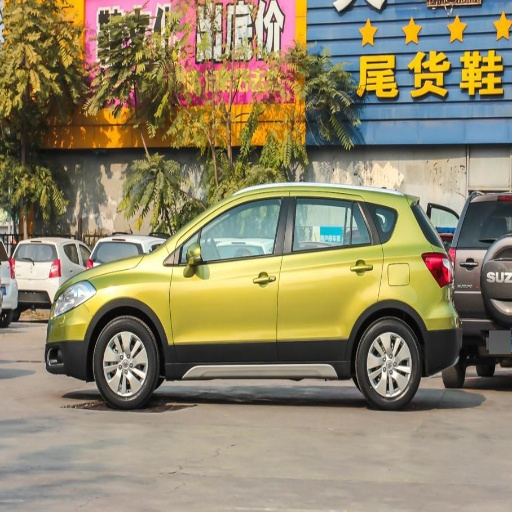back_bumper: (421, 287, 488, 368)
back_left_door: (278, 192, 378, 361)
front_left_door: (170, 192, 290, 361)
